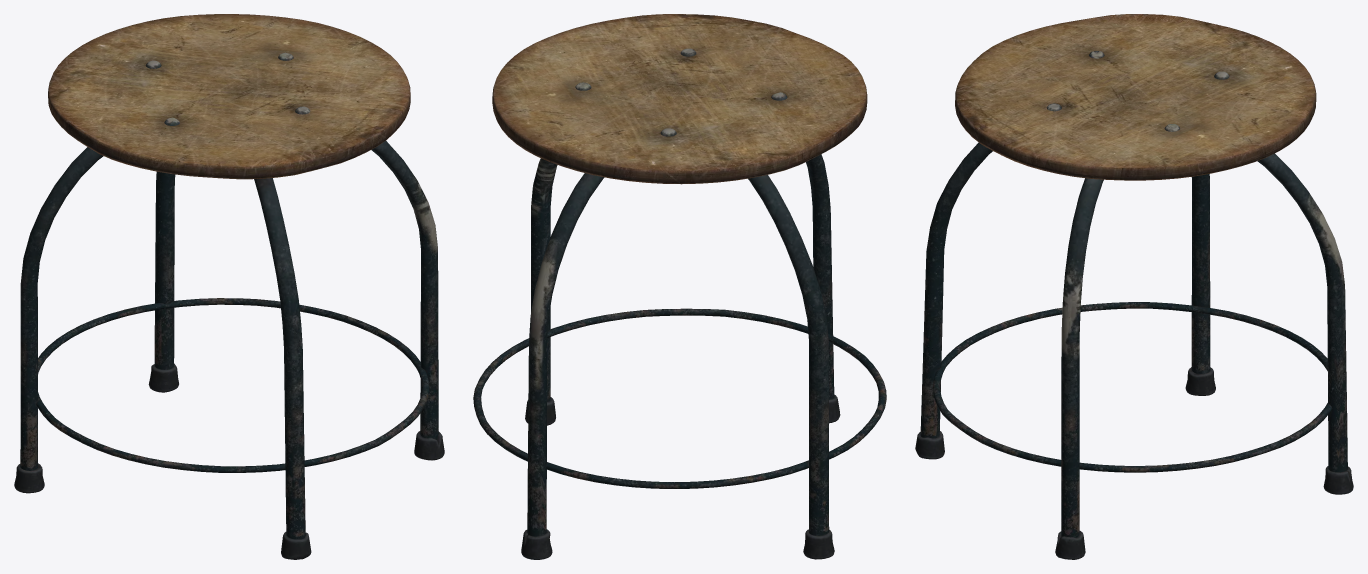
File: metal_stool_02.optimized.glb
3 views of the same model, side by side, from view 1: azimuth 30°, elevation 25°; view 2: azimuth 150°, elevation 25°; view 3: azimuth 270°, elevation 25° (orthographic). The views are drawn at different scales.
Parts seen in each view (by area): view 1: metal_stool_02; view 2: metal_stool_02; view 3: metal_stool_02.
Boxes of the visible parts, <box> form: metal_stool_02: <box>14,14,444,559</box>; metal_stool_02: <box>473,14,886,559</box>; metal_stool_02: <box>915,14,1353,559</box>.
Bounding box in the file's own units: 0.4481 × 0.4581 × 0.4731.
1 material, 1 textured.
